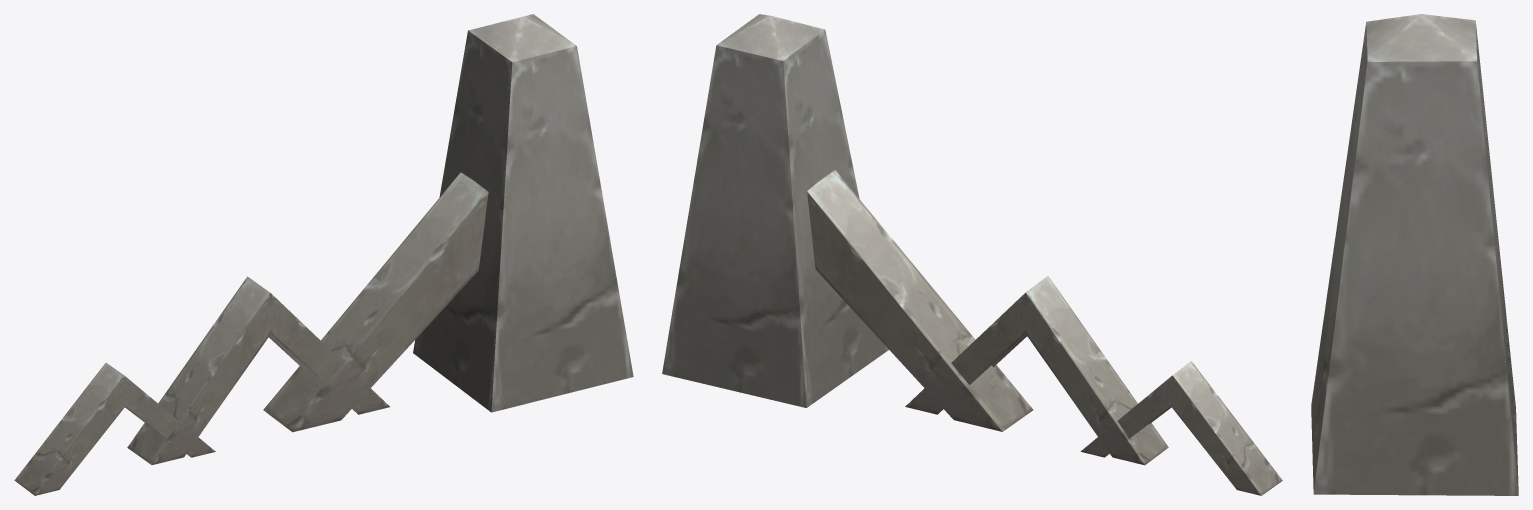
Rendered from building_city_bailangan02.FBX.
3 renders of one model, left to right at view 1: azimuth 30°, elevation 25°; view 2: azimuth 150°, elevation 25°; view 3: azimuth 270°, elevation 25°, orthographic. The views are drawn at different scales.
Visible parts, largest first — view 1: building_city_bailangan02; view 2: building_city_bailangan02; view 3: building_city_bailangan02.
Part boxes in pixels (box(x1,y1,x2,y2)): building_city_bailangan02: box(14, 14, 633, 495); building_city_bailangan02: box(662, 14, 1282, 495); building_city_bailangan02: box(1311, 14, 1518, 495).
Size of the model in its own units: 2.99 by 1.76 by 0.7462.
